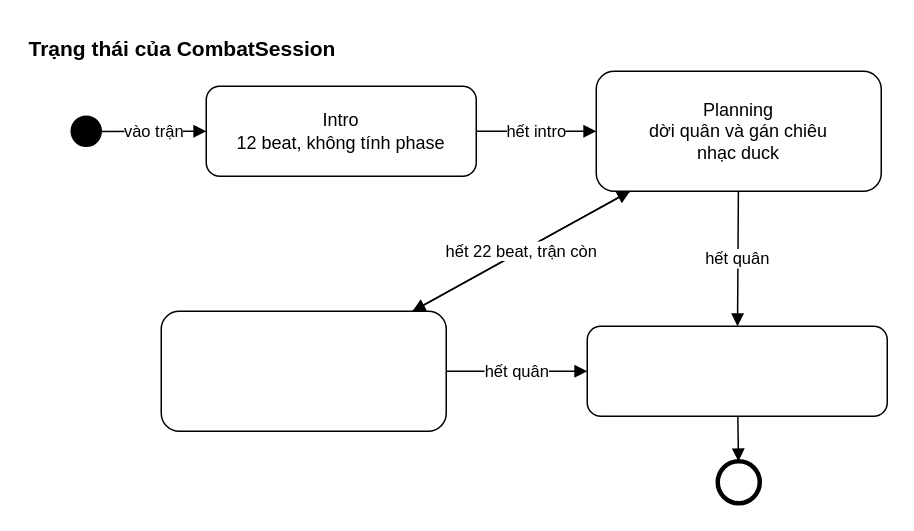
The diagram is 914 pixels wide and 531 high, and some of its shapes have lost their labels. The centre of each missing label's shape, as x and y in pixels:
Execute quét 22 beat giải chiêu và đòn: point 303,370
Kết thúc trận một phe hết người sống: point 736,370
